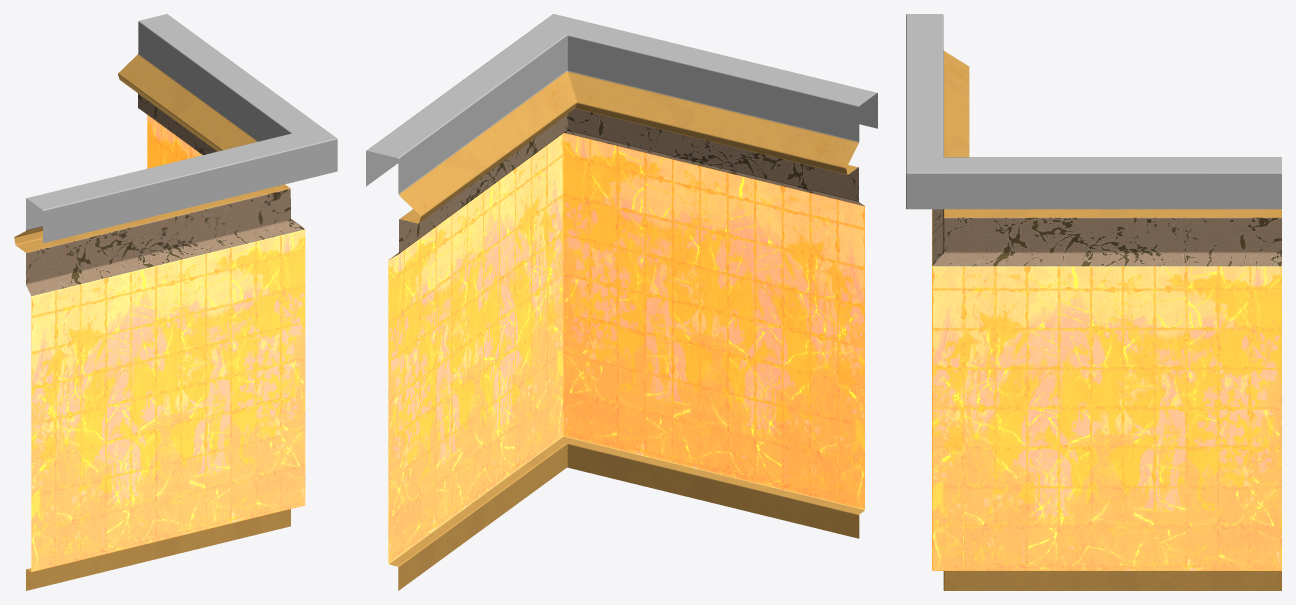
File: SM_Floor_Beam_01_Corner_02.fbx
3 views of the same model, side by side, from view 1: azimuth 30°, elevation 25°; view 2: azimuth 150°, elevation 25°; view 3: azimuth 270°, elevation 25° (orthographic). The views are drawn at different scales.
Parts seen in each view (by area): view 1: SM_Floor_Beam_01_Corner_02_LOD0; view 2: SM_Floor_Beam_01_Corner_02_LOD0; view 3: SM_Floor_Beam_01_Corner_02_LOD0.
Boxes of the visible parts, x1=… form: SM_Floor_Beam_01_Corner_02_LOD0: x1=14, y1=14, x2=337, y2=590; SM_Floor_Beam_01_Corner_02_LOD0: x1=366, y1=14, x2=877, y2=590; SM_Floor_Beam_01_Corner_02_LOD0: x1=906, y1=14, x2=1281, y2=590.
Size of the model in its own units: 300 by 300 by 382.
